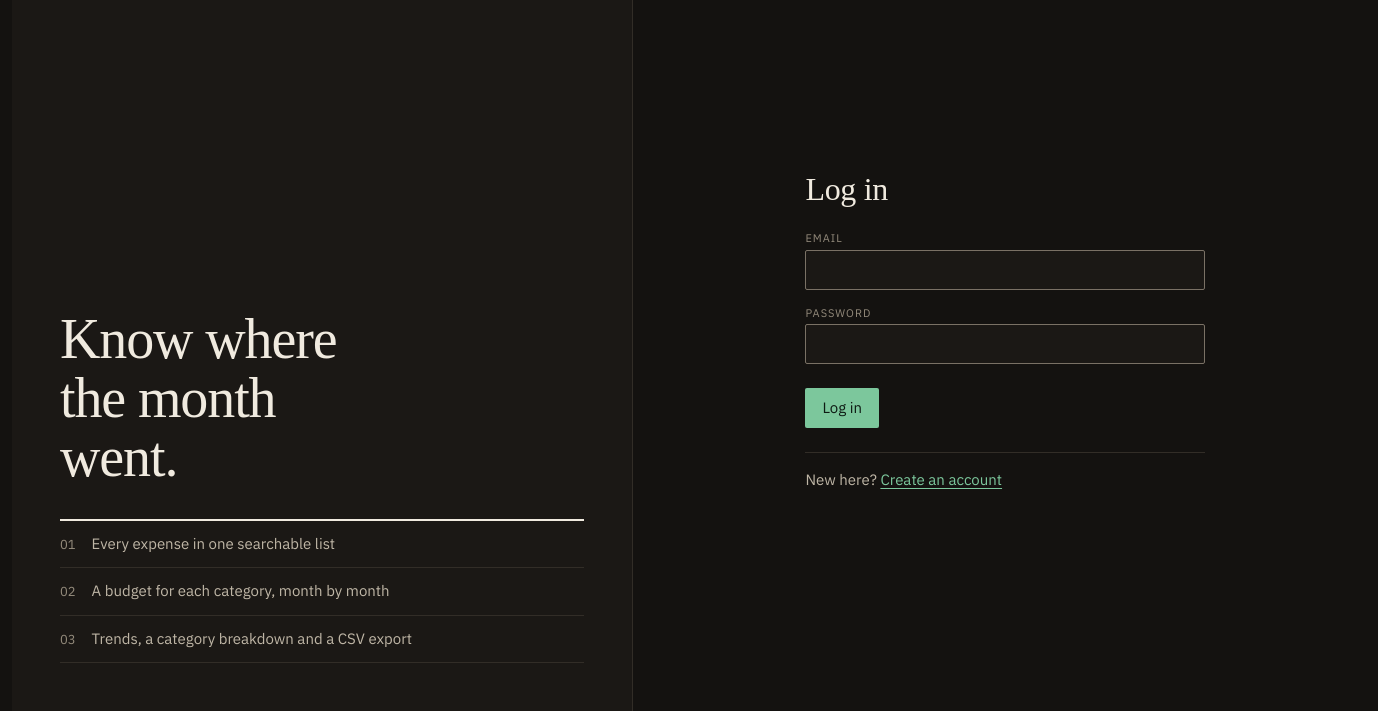
Test: login › stores the session and returns to the page the visitor asked for
The image size is (1378, 711).
Expected: the heading "Log in" is shown, [805,170,888,206]
In the field labelled "Email": (1005, 270) [805,250,1205,290], type "demo@example.com"
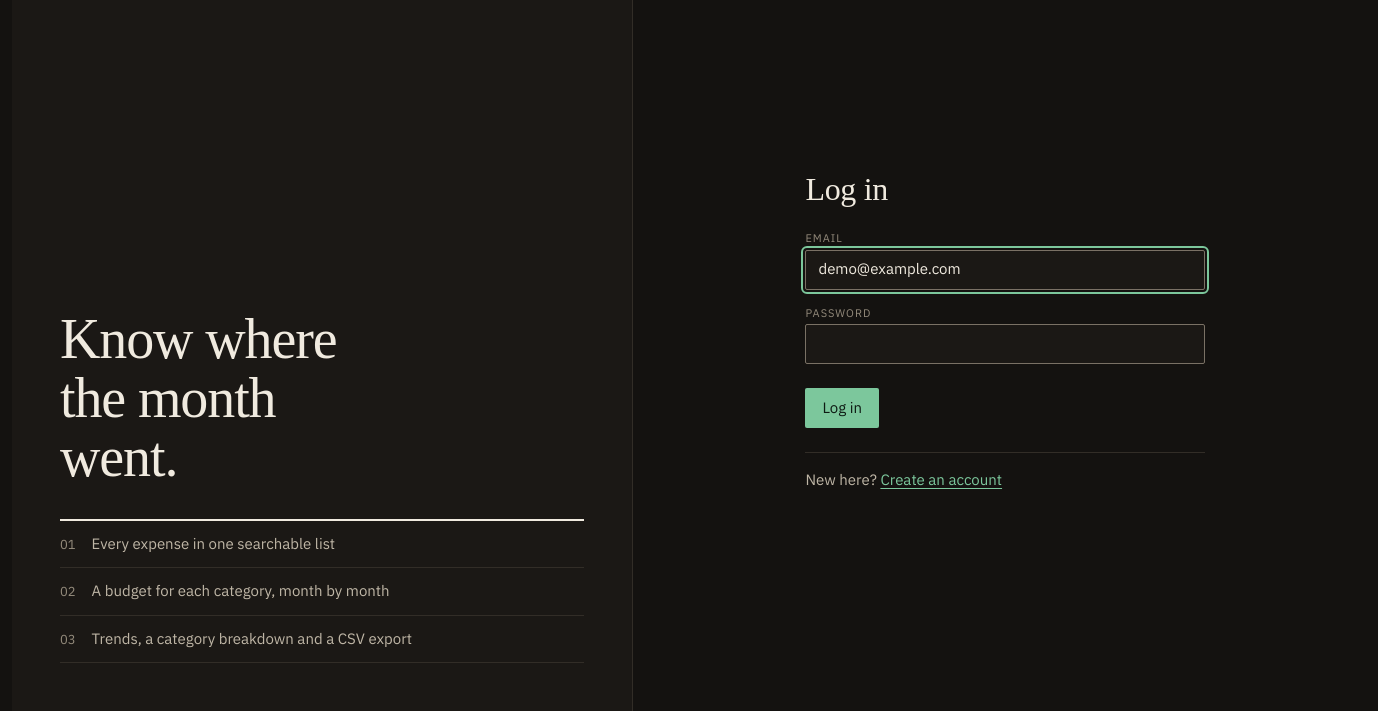
In the password field labelled "Password": (1005, 344) [805,324,1205,364], type "demo-ledger"
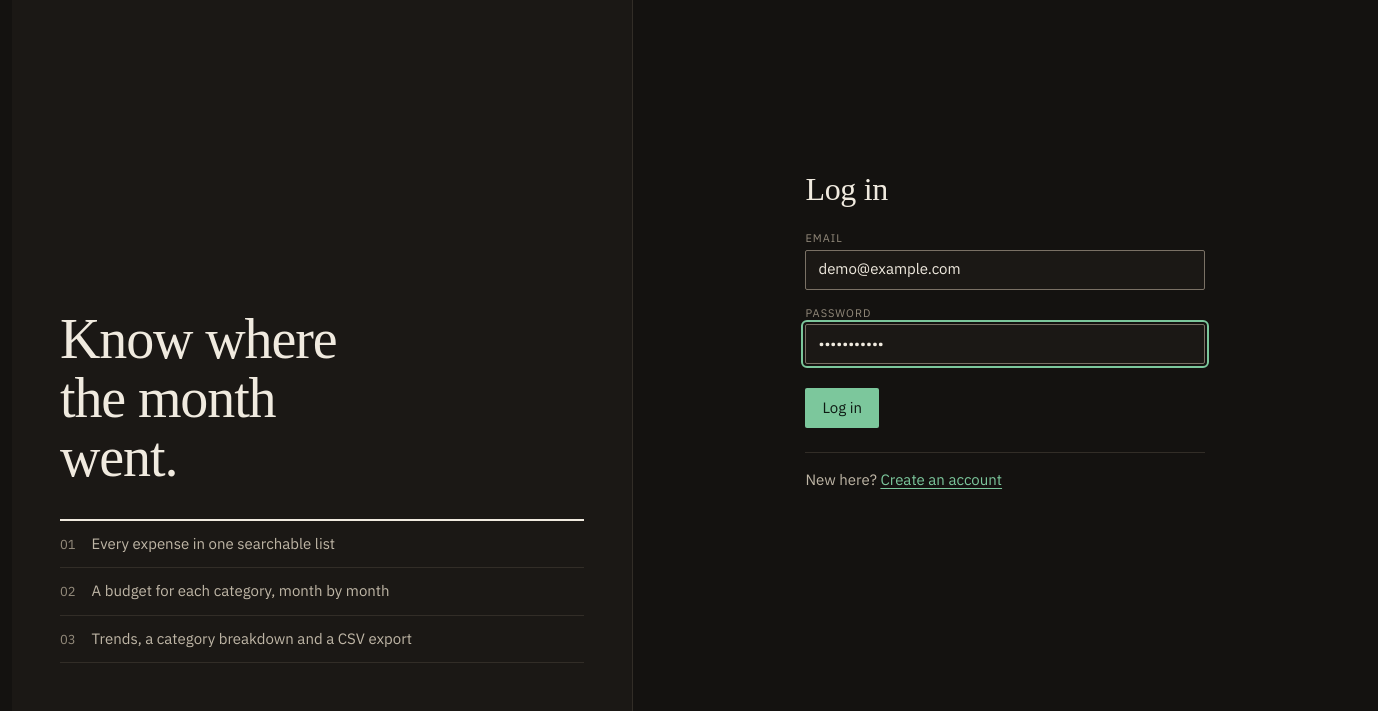
Click the button "Log in": (842, 408) [805,388,879,428]
(page scrolled)
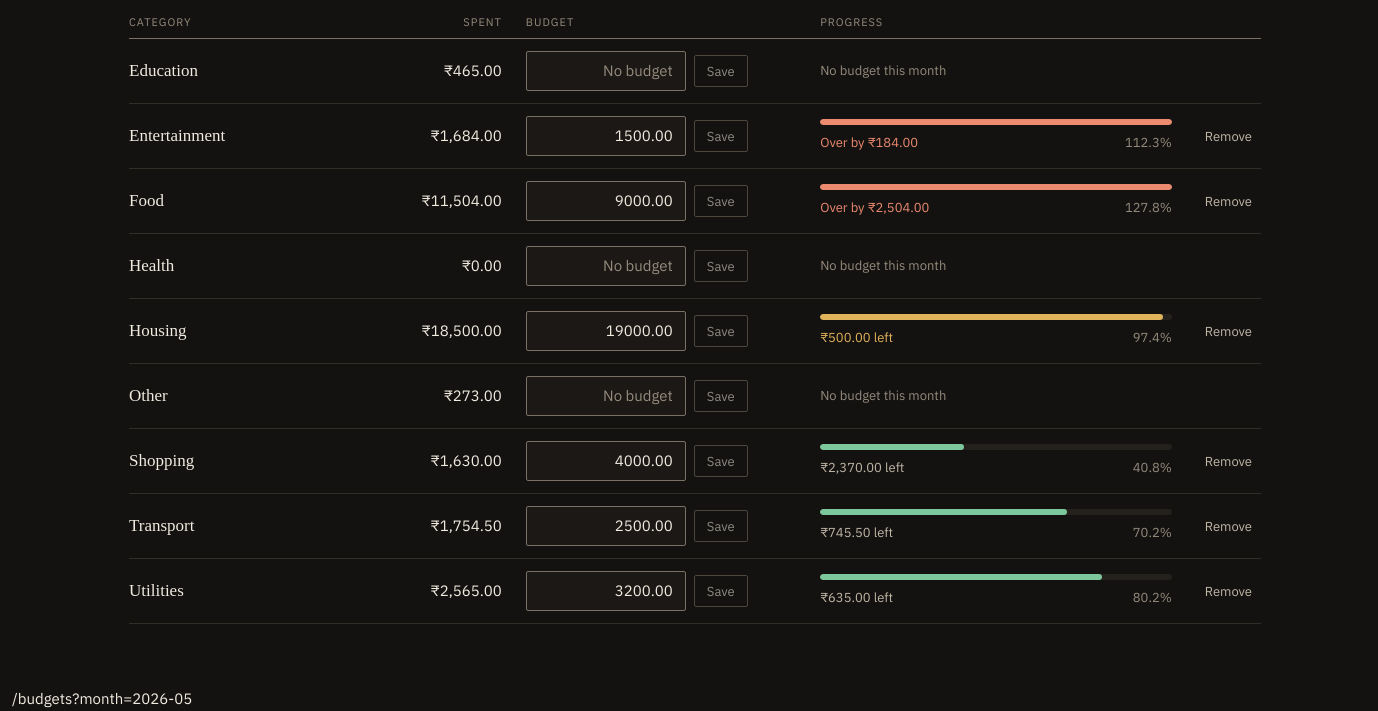
Now the text with test id "location" reads "/budgets?month=2026-05", box [12,689,192,708]
